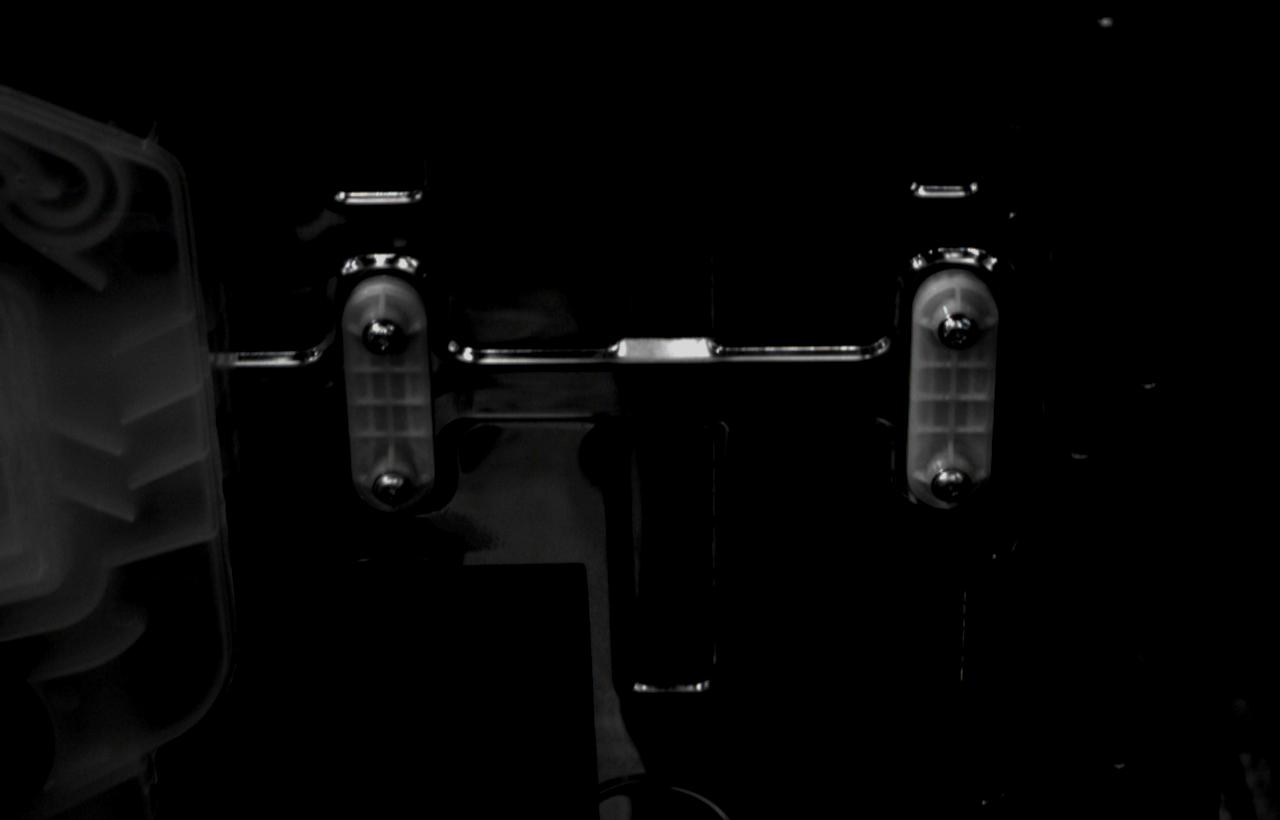vida-ok: (362, 317, 403, 354), (931, 467, 970, 503), (938, 313, 976, 349), (372, 470, 409, 505)
